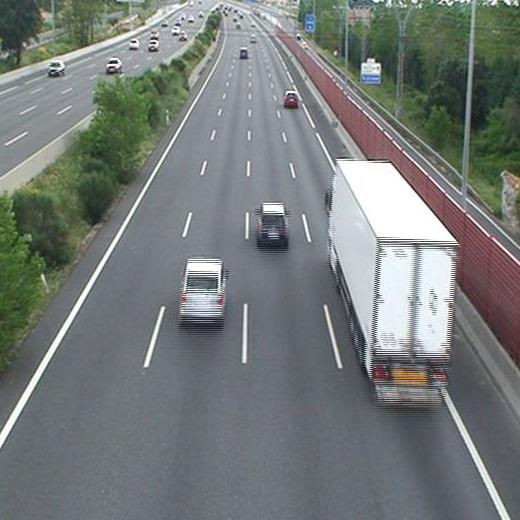car: (180, 260, 224, 321), (258, 203, 288, 242), (284, 91, 297, 105), (240, 48, 247, 57)
truck: (327, 161, 458, 404)
